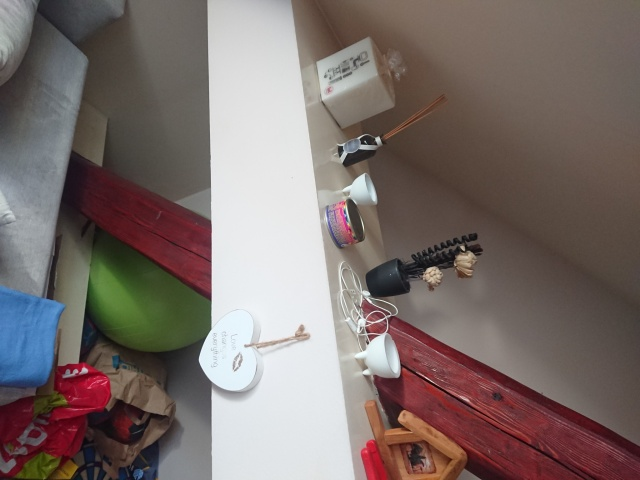Giana Tuna Salad Mexico 185g: (323, 196, 368, 252)
